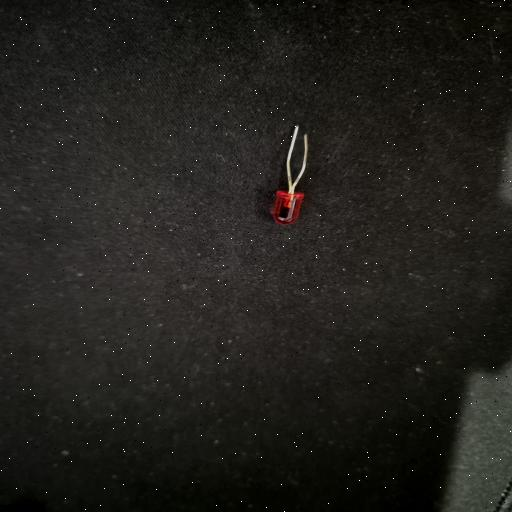led-diode: (273, 126, 308, 225)
